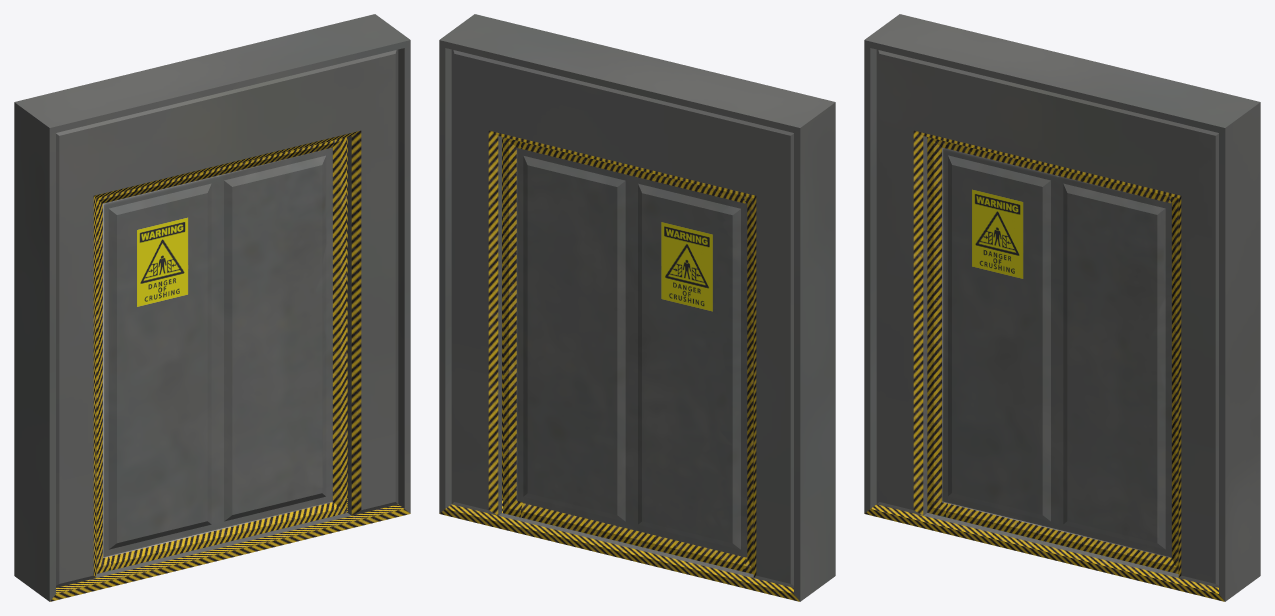
The model's file is DoorwayAsset1.FBX.
3 renders of one model, left to right at view 1: azimuth 30°, elevation 25°; view 2: azimuth 150°, elevation 25°; view 3: azimuth 330°, elevation 25°, orthographic.
Parts seen in each view (by area): view 1: Box001, Box002; view 2: Box001, Box002; view 3: Box001, Box002.
Part boxes in pixels (x1,y1,x2,y2): Box001: (14, 14, 410, 601); Box002: (96, 137, 346, 573); Box001: (439, 14, 835, 601); Box002: (503, 137, 753, 574); Box001: (864, 14, 1260, 601); Box002: (927, 137, 1178, 573).
Size of the model in its own units: 58.59 by 73.5 by 10.
Materials: 2 (2 with a texture image).
